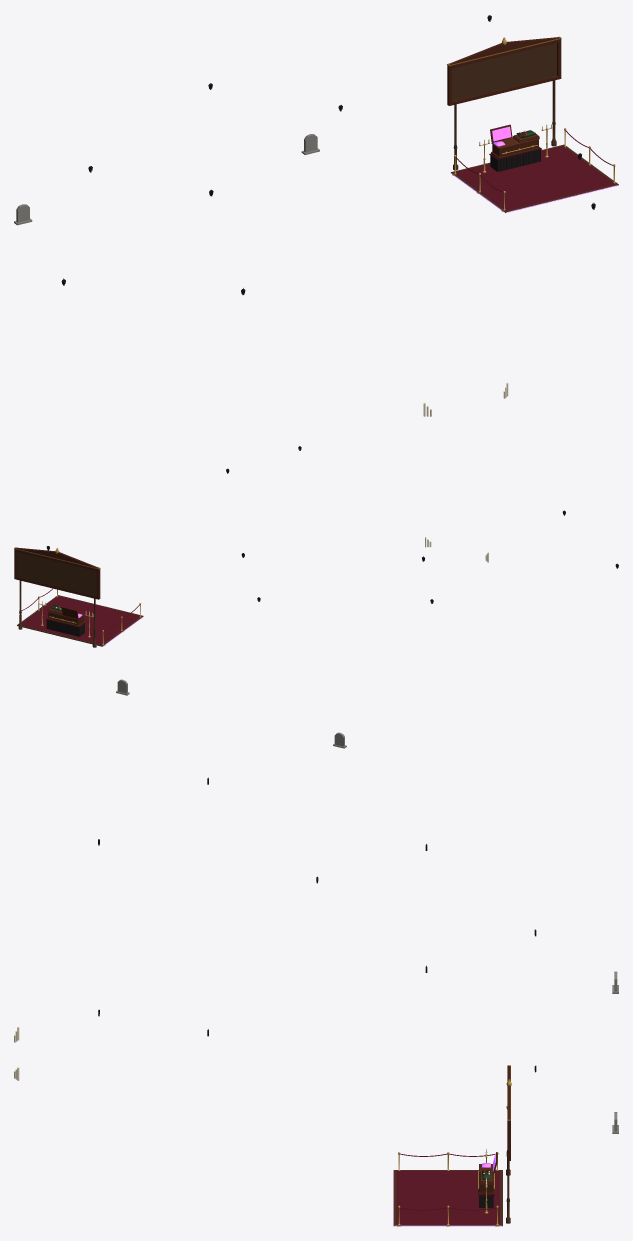
The model's file is zh-halloween.glb.
3 views of the same model, one above another, from view 1: azimuth 30°, elevation 25°; view 2: azimuth 150°, elevation 25°; view 3: azimuth 270°, elevation 25° (orthographic). The views are drawn at different scales.
Parts seen in each view (by area): view 1: zh-halloween; view 2: zh-halloween; view 3: zh-halloween.
Boxes of the visible parts, bbox=[...] form: zh-halloween: bbox=[14, 15, 618, 416]; zh-halloween: bbox=[14, 446, 618, 748]; zh-halloween: bbox=[14, 777, 618, 1226].
Size of the model in its own units: 34.39 by 6.74 by 27.72.
